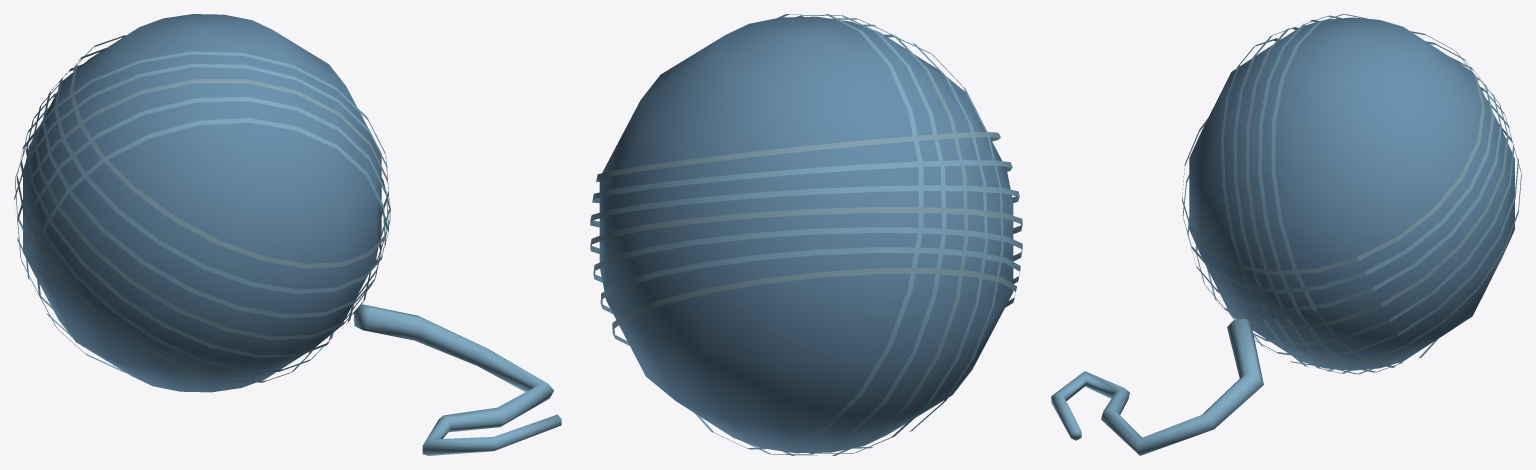
Rendered from ball_of_yarn.glb.
3 renders of one model, left to right at view 1: azimuth 30°, elevation 25°; view 2: azimuth 150°, elevation 25°; view 3: azimuth 270°, elevation 25°, orthographic. The views are drawn at different scales.
Visible parts, largest first — view 1: ball_of_yarn; view 2: ball_of_yarn; view 3: ball_of_yarn.
Part boxes in pixels (x1,y1,x2,y2): ball_of_yarn: [14, 14, 561, 455]; ball_of_yarn: [590, 14, 1022, 455]; ball_of_yarn: [1051, 14, 1521, 455].
Bounding box in the file's own units: 0.2057 × 0.1714 × 0.2253.
